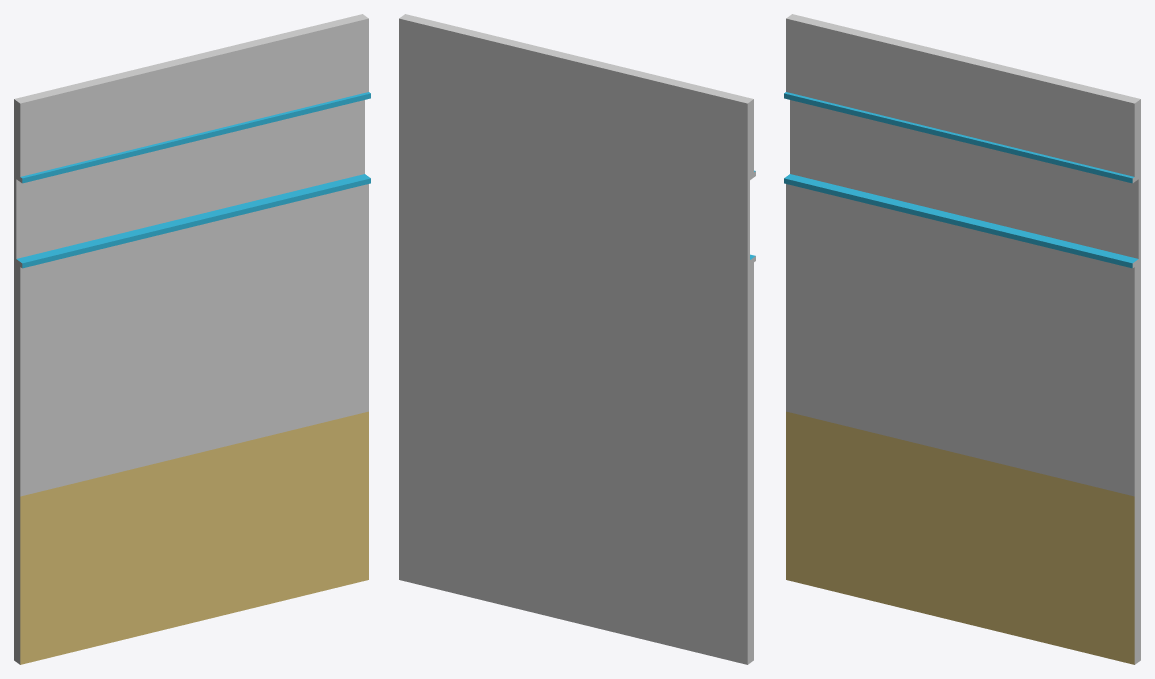
Rendered from Hall-wall.fbx.
The picture shows the model from 3 angles, left to right: view 1: azimuth 30°, elevation 25°; view 2: azimuth 150°, elevation 25°; view 3: azimuth 330°, elevation 25°; orthographic projection.
Visible parts, largest first — view 1: sporthall_wall; view 2: sporthall_wall; view 3: sporthall_wall.
Part boxes in pixels (left/top/right/bottom): sporthall_wall: left=14, top=14, right=370, bottom=664; sporthall_wall: left=399, top=14, right=755, bottom=664; sporthall_wall: left=784, top=14, right=1140, bottom=664.
Bounding box in the file's own units: 6.5 × 0.2655 × 10.
